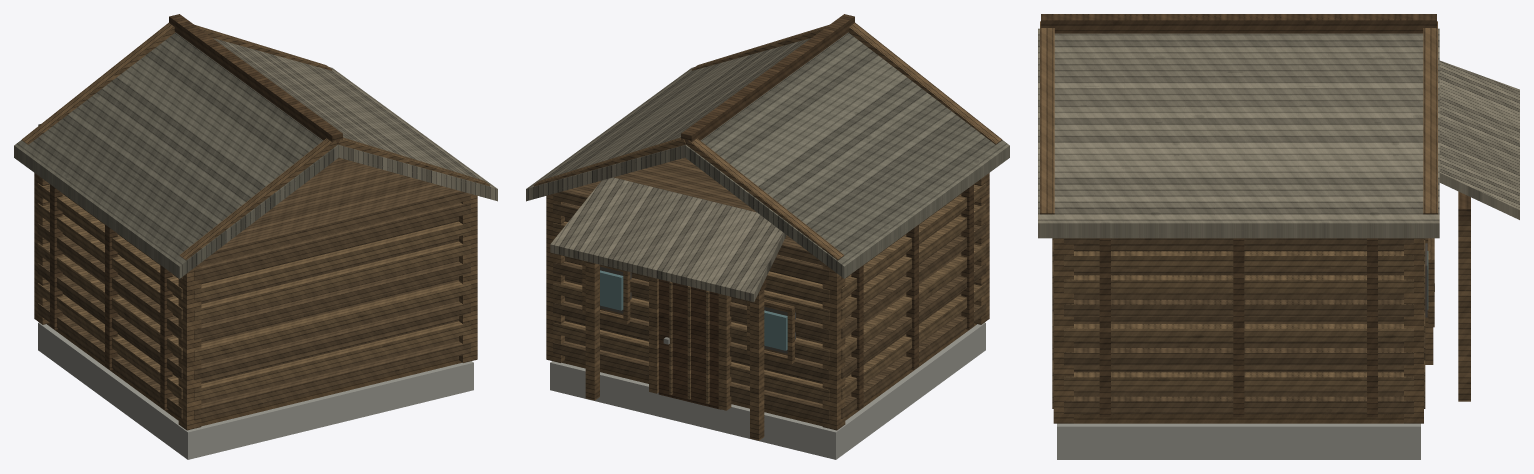
File: wooden_forest_gable_house.glb
3 views of the same model, side by side, from view 1: azimuth 30°, elevation 25°; view 2: azimuth 150°, elevation 25°; view 3: azimuth 270°, elevation 25° (orthographic). The views are drawn at different scales.
Visible parts, largest first — view 1: Wooden_Forest_Gable_House; view 2: Wooden_Forest_Gable_House; view 3: Wooden_Forest_Gable_House.
Part boxes in pixels (<box>): Wooden_Forest_Gable_House: <box>14,14,497,459</box>; Wooden_Forest_Gable_House: <box>526,14,1009,459</box>; Wooden_Forest_Gable_House: <box>1038,14,1519,459</box>.
Bounding box in the file's own units: 4.84 × 4.29 × 5.23.
12 materials, 8 textured.
